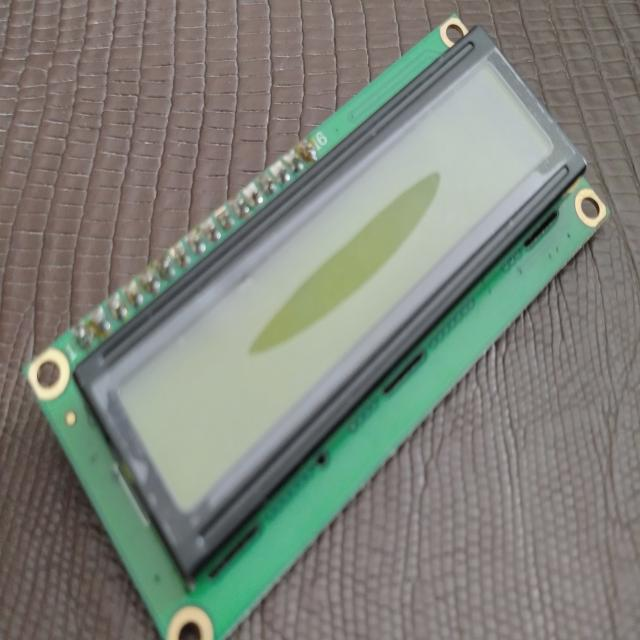lcd: (0, 18, 614, 640)
